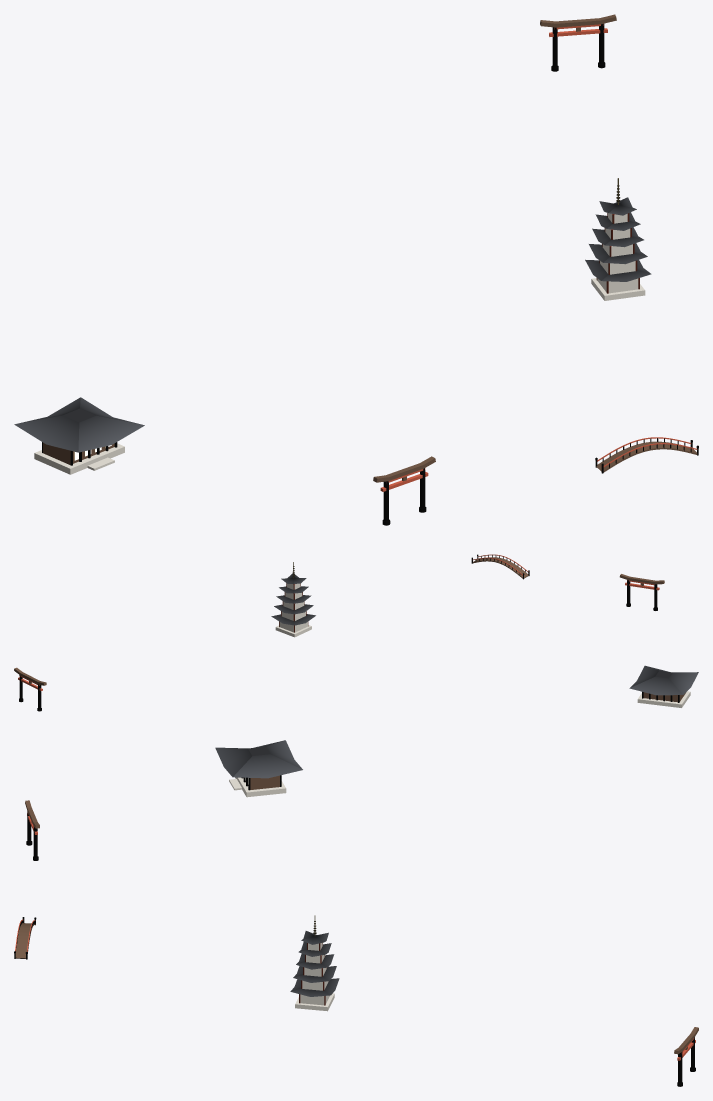
The model's file is japan.glb.
3 renders of one model, top to bottom at view 1: azimuth 30°, elevation 25°; view 2: azimuth 150°, elevation 25°; view 3: azimuth 270°, elevation 25°, orthographic. The views are drawn at different scales.
Visible parts, largest first — view 1: shrine_hall, pagoda, gate_far, gate, bridge; view 2: shrine_hall, pagoda, gate, bridge, gate_far; view 3: shrine_hall, pagoda, gate_far, bridge.
Boxes of the visible parts, left/top/right/bottom form: shrine_hall: left=14, top=397, right=144, bottom=474; pagoda: left=585, top=178, right=651, bottom=300; gate_far: left=540, top=14, right=616, bottom=71; gate: left=373, top=456, right=435, bottom=525; bridge: left=595, top=437, right=698, bottom=473; shrine_hall: left=629, top=665, right=698, bottom=707; pagoda: left=271, top=562, right=315, bottom=637; gate: left=619, top=574, right=664, bottom=610; bridge: left=471, top=554, right=529, bottom=579; gate_far: left=14, top=667, right=46, bottom=711; shrine_hall: left=215, top=740, right=302, bottom=797; pagoda: left=290, top=915, right=339, bottom=1011; gate_far: left=674, top=1027, right=698, bottom=1086; bridge: left=14, top=917, right=36, bottom=959.
Size of the model in its own units: 208 by 25.95 by 184.
